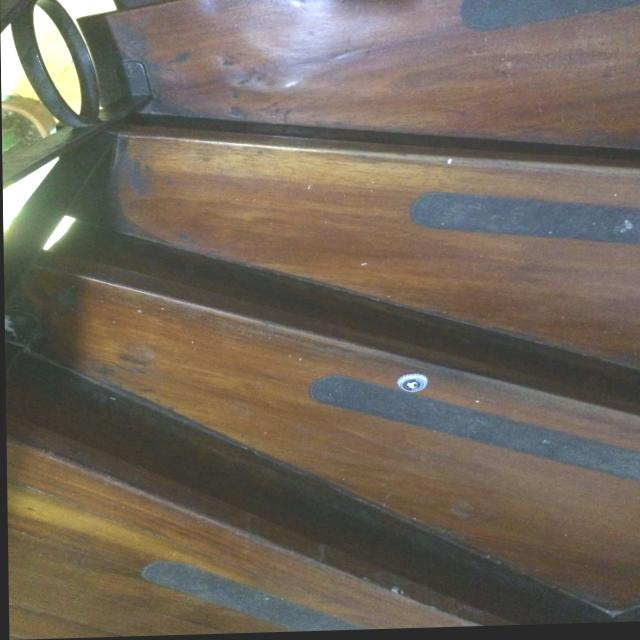Can-Metal: (387, 374, 429, 397)
